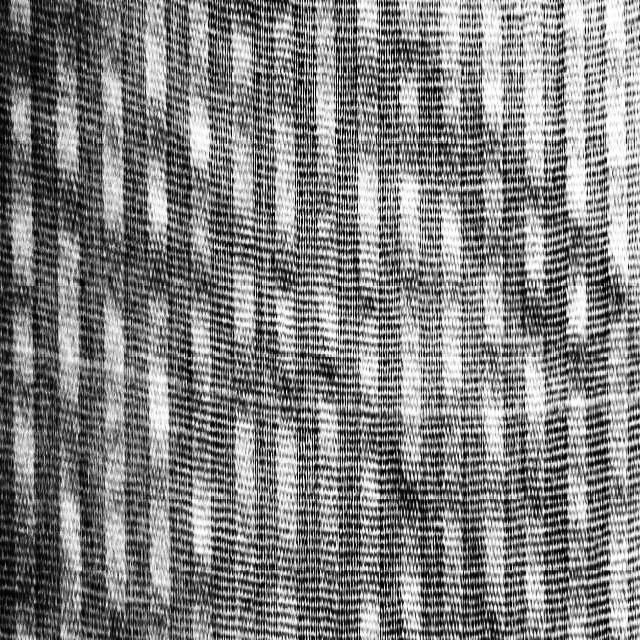Foreign_yarn: (69, 348, 636, 428)
